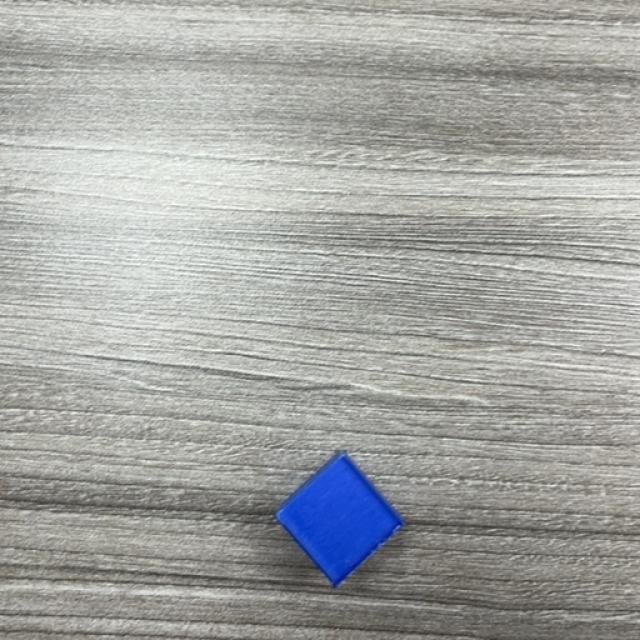Azul: (275, 452, 405, 589)
